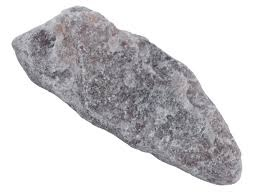obstacle: (12, 6, 241, 183)
